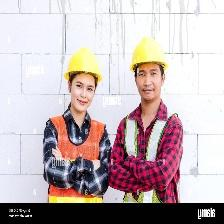Person: (108, 33, 184, 203), (42, 44, 110, 204)
helmet: (129, 36, 170, 73), (64, 47, 103, 84)
vest: (45, 111, 109, 199), (121, 108, 178, 196)
